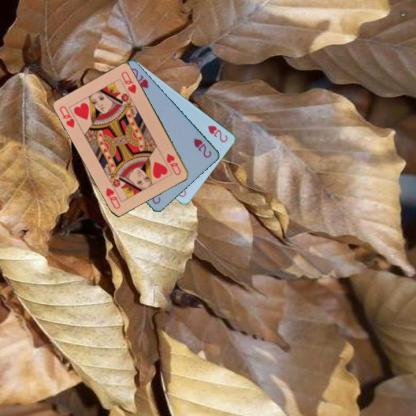2h: (206, 122, 229, 144), (191, 136, 213, 159)
Qh: (57, 103, 76, 129), (164, 151, 182, 177)
